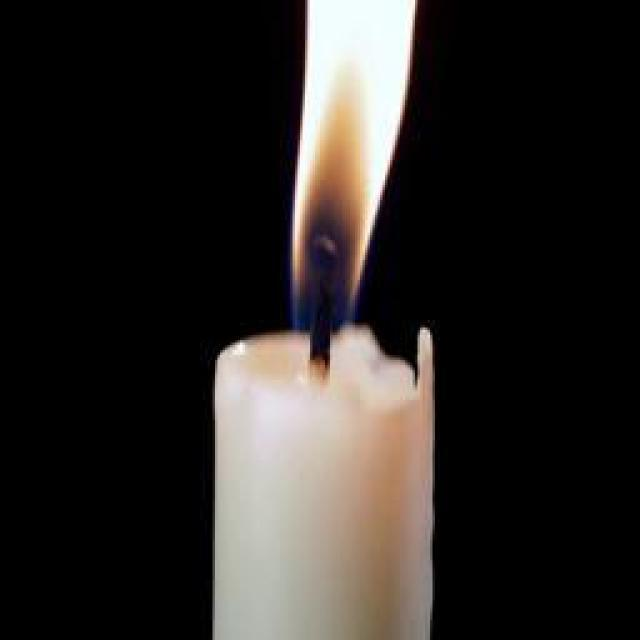Fire: (290, 0, 417, 332)
